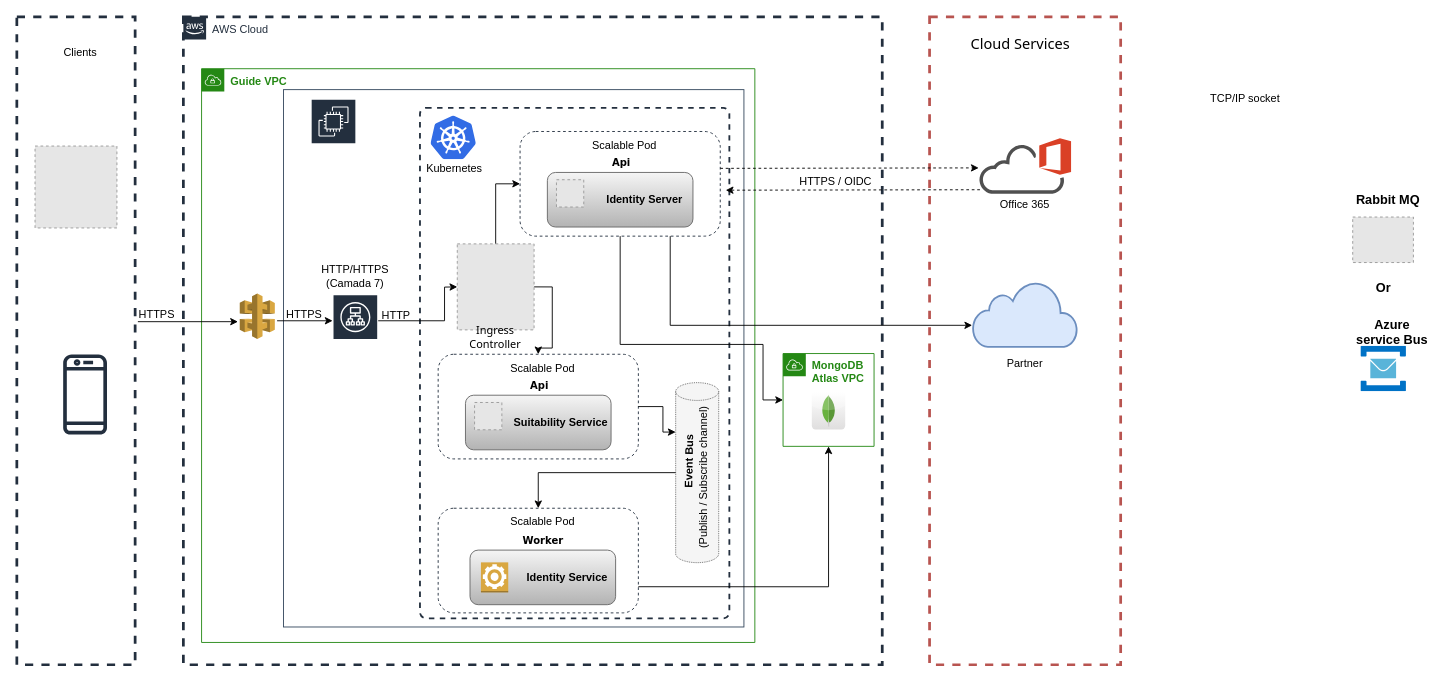
This 1445x682 diagram has some shape labels left out. Grey dashed boxes stand in for pictures. The shapes that lost their labels are listed below. From the top down, each one's centre as x and y in pixels, then its label:
pixel 333 134: Amazon EC2
pixel 355 329: Application Load Balancer
